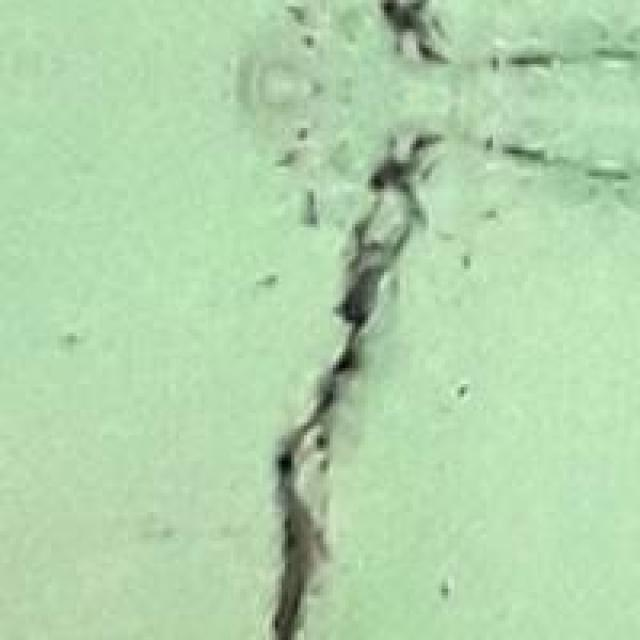crack: (230, 6, 573, 637)
